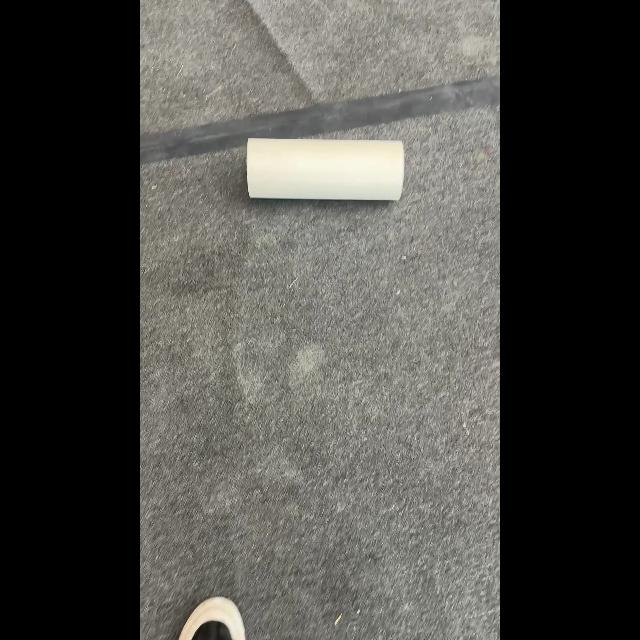CORAL: (246, 136, 404, 202)
